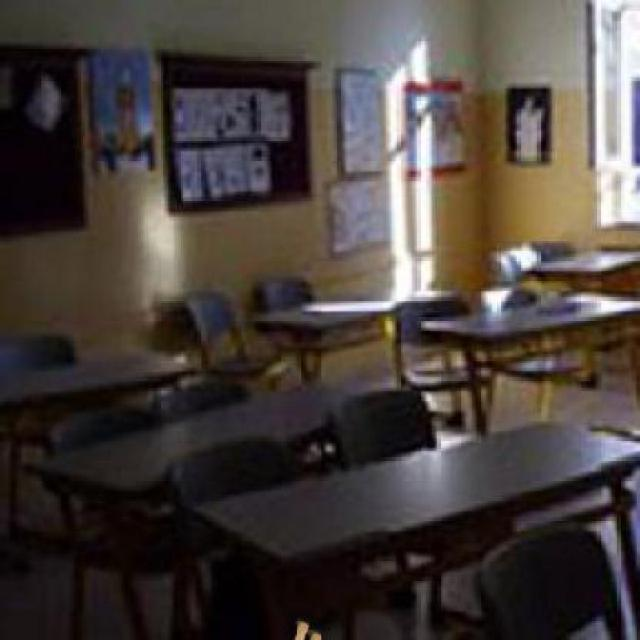Person: (290, 614, 328, 638)
